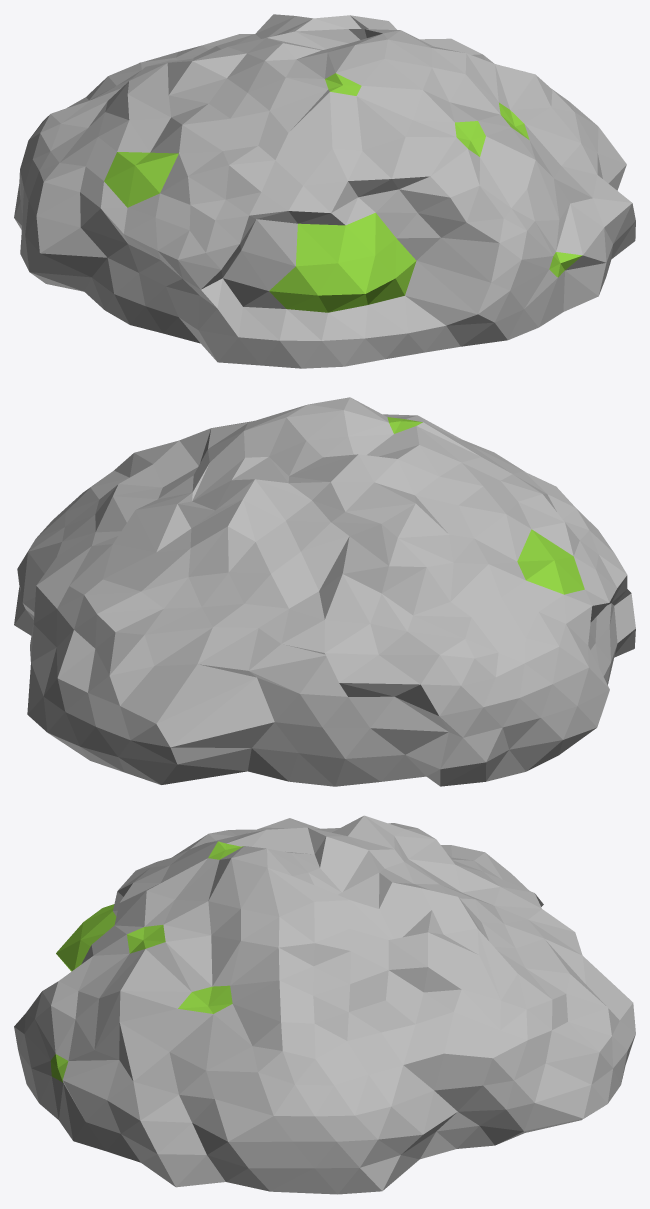
File: Erz_2.fbx
3 views of the same model, one above another, from view 1: azimuth 30°, elevation 25°; view 2: azimuth 150°, elevation 25°; view 3: azimuth 270°, elevation 25° (orthographic). The views are drawn at different scales.
Visible parts, largest first — view 1: Erz_2; view 2: Erz_2; view 3: Erz_2.
Boxes of the visible parts, x1=… form: Erz_2: x1=14, y1=14, x2=635, y2=368; Erz_2: x1=14, y1=397, x2=635, y2=786; Erz_2: x1=14, y1=815, x2=635, y2=1194.
Bounding box in the file's own units: 225 × 88.31 × 223.
